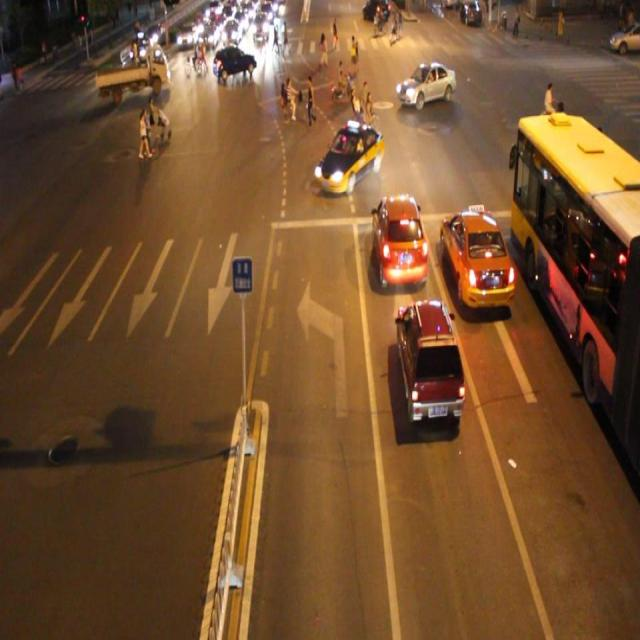bus: (94, 46, 171, 97)
car: (395, 297, 466, 422), (440, 204, 518, 308), (373, 192, 429, 288), (313, 119, 384, 193), (395, 61, 455, 107), (211, 45, 257, 81)
van: (511, 116, 640, 468)
